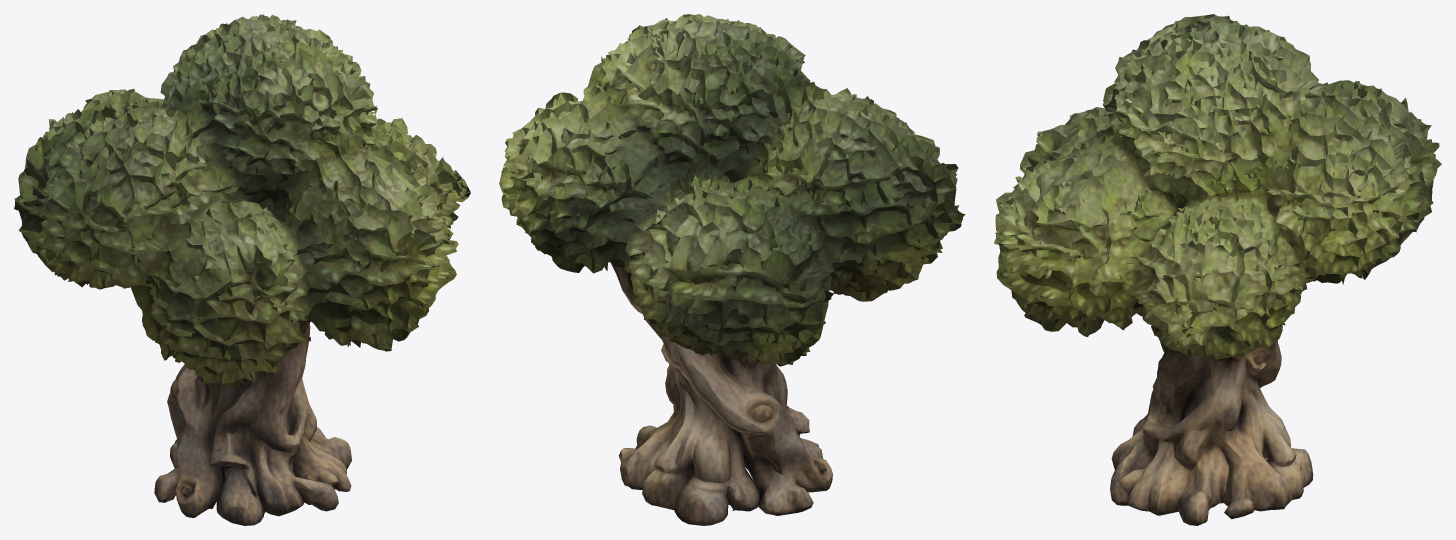
Rendered from nat_olive_tree.glb.
3 views of the same model, side by side, from view 1: azimuth 30°, elevation 25°; view 2: azimuth 150°, elevation 25°; view 3: azimuth 270°, elevation 25° (orthographic). The views are drawn at different scales.
Parts seen in each view (by area): view 1: geometry_0; view 2: geometry_0; view 3: geometry_0.
Part boxes in pixels (box(x1,y1,x2,y2)): geometry_0: box(14, 14, 470, 525); geometry_0: box(499, 14, 965, 525); geometry_0: box(994, 14, 1441, 525).
Size of the model in its own units: 0.2521 by 0.26 by 0.2264.
1 material, 1 textured.
